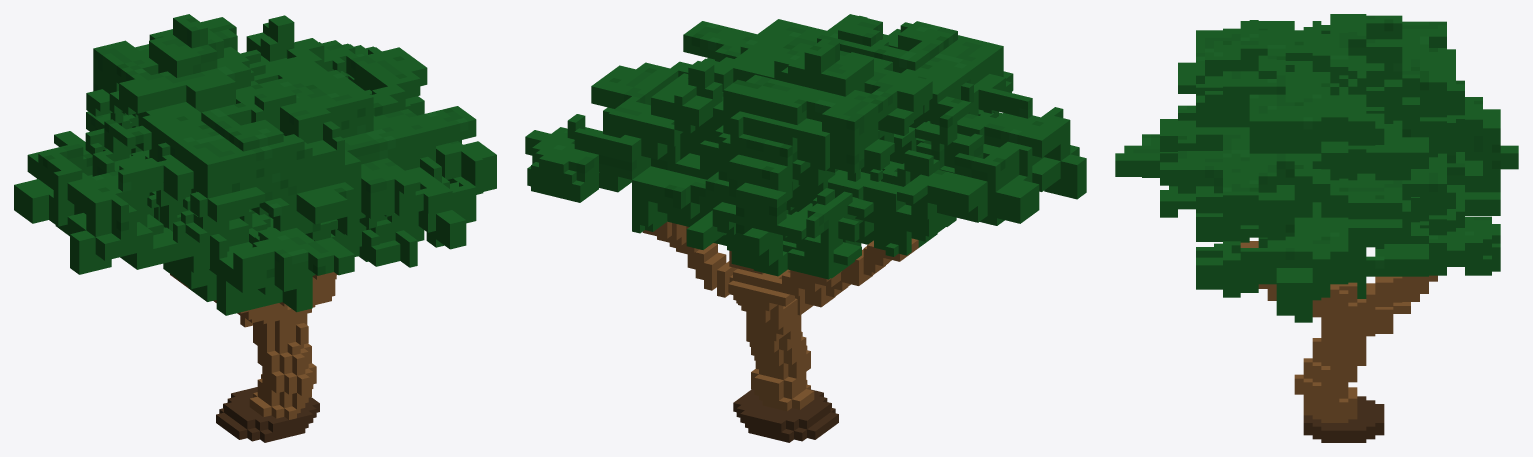
File: 2_2 gravi.obj
3 renders of one model, left to right at view 1: azimuth 30°, elevation 25°; view 2: azimuth 150°, elevation 25°; view 3: azimuth 270°, elevation 25°, orthographic. The views are drawn at different scales.
Size of the model in its own units: 5.4 by 4.7 by 4.5.
Materials: 1 (1 with a texture image).
